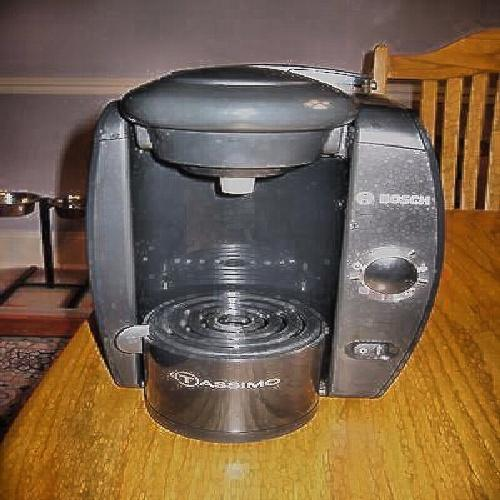coffee_maker: (100, 78, 423, 434)
